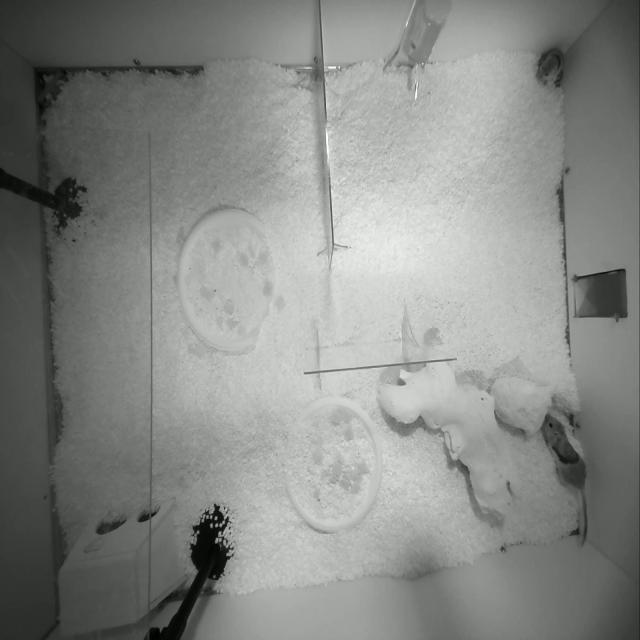adult_front: (540, 413, 588, 545)
pup_h_stripe: (536, 47, 564, 87)
